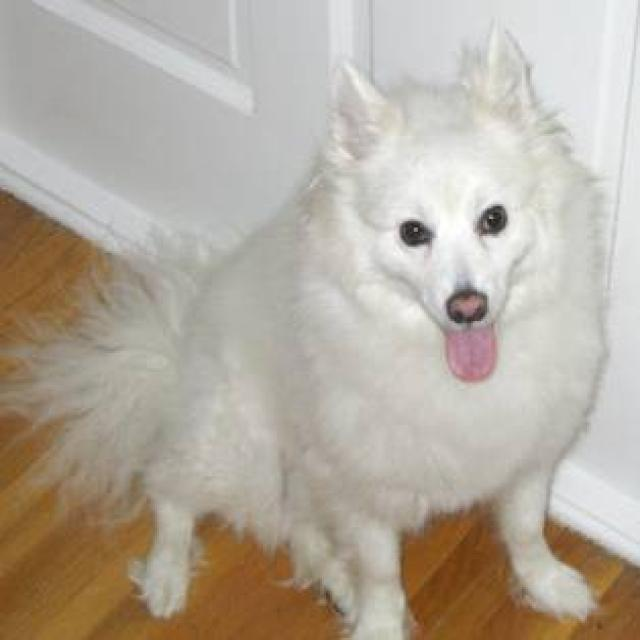dogs: (52, 27, 605, 640)
